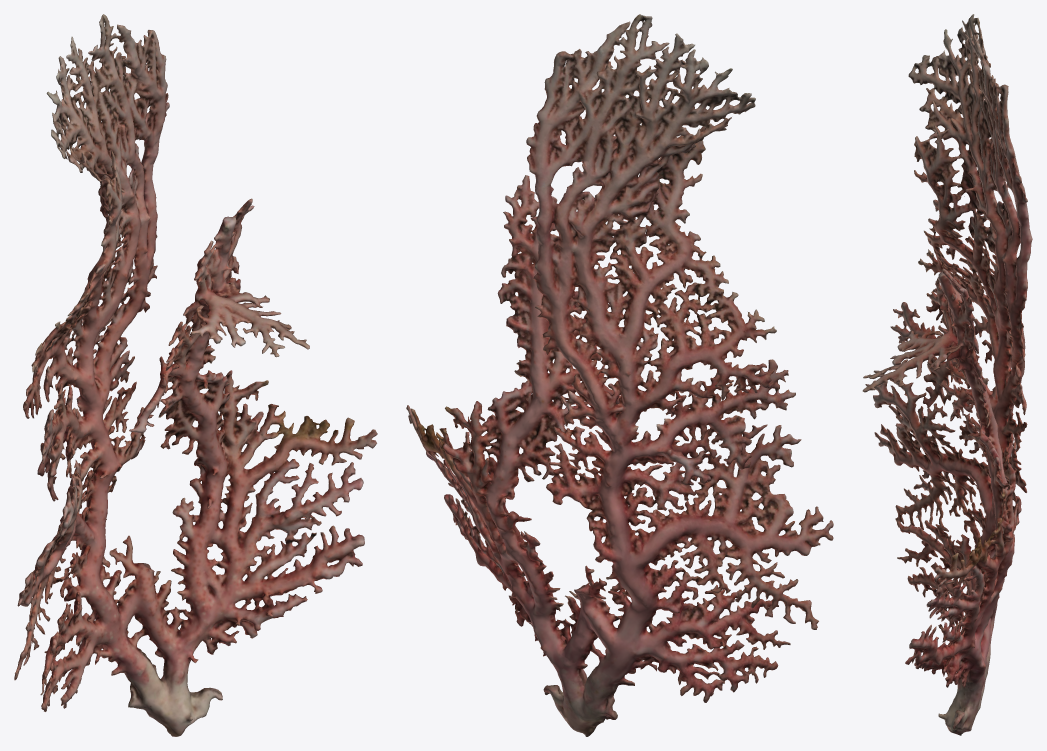
Rendered from usnm_76600-100k-2048.gltf.
3 renders of one model, left to right at view 1: azimuth 30°, elevation 25°; view 2: azimuth 150°, elevation 25°; view 3: azimuth 270°, elevation 25°, orthographic. The views are drawn at different scales.
Size of the model in its own units: 0.0949 by 0.1702 by 0.0381.
1 material, 1 textured.
